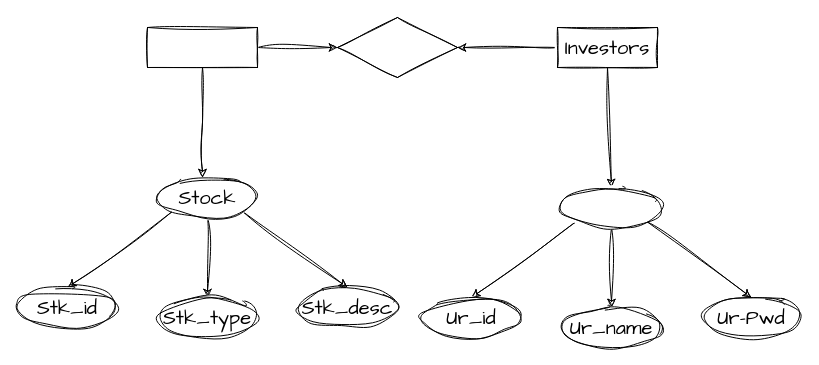
Image size: 819x365. Some labels were removed from this diagram. The shapes that lost their labels are listed below. From the top down, each one's centre as x and y in pixels, then its label:
At point (202, 47): "Investments".
At point (397, 47): "Relationship".
At point (611, 207): "User".
